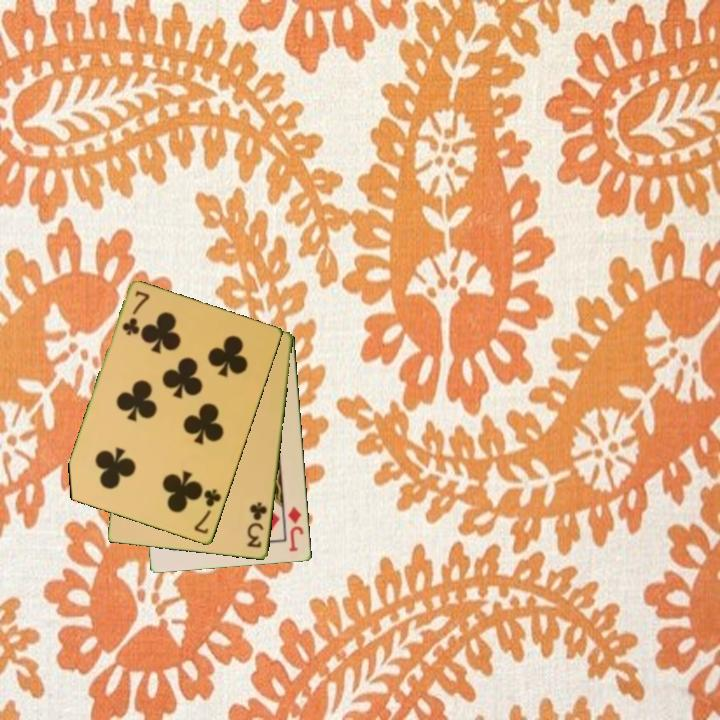3c: (244, 499, 270, 551)
7c: (191, 485, 224, 537), (119, 287, 152, 339)
Jd: (285, 503, 307, 555)
